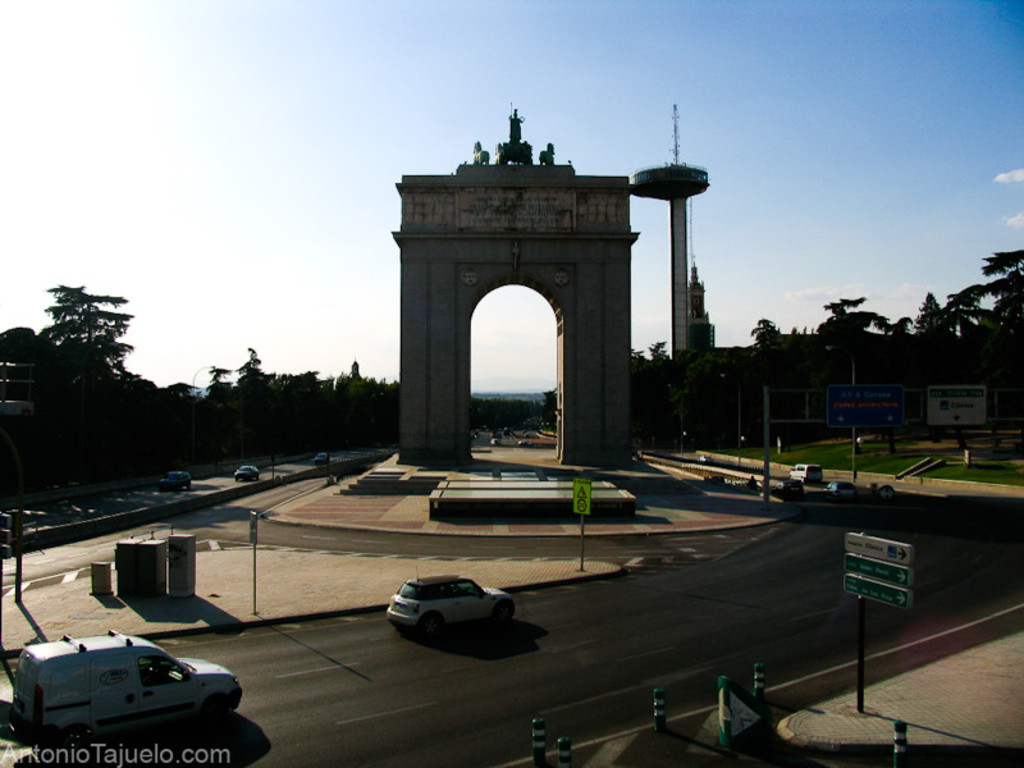Car: (378, 581, 506, 654), (153, 464, 190, 492), (771, 478, 800, 499), (823, 483, 853, 503), (229, 460, 257, 480), (312, 449, 326, 463)
